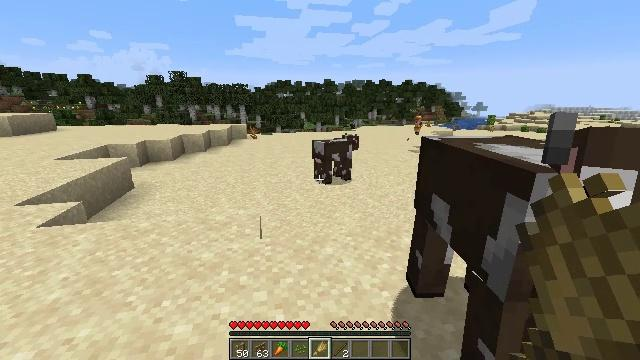cow: (417, 122, 640, 357), (313, 133, 359, 182)
